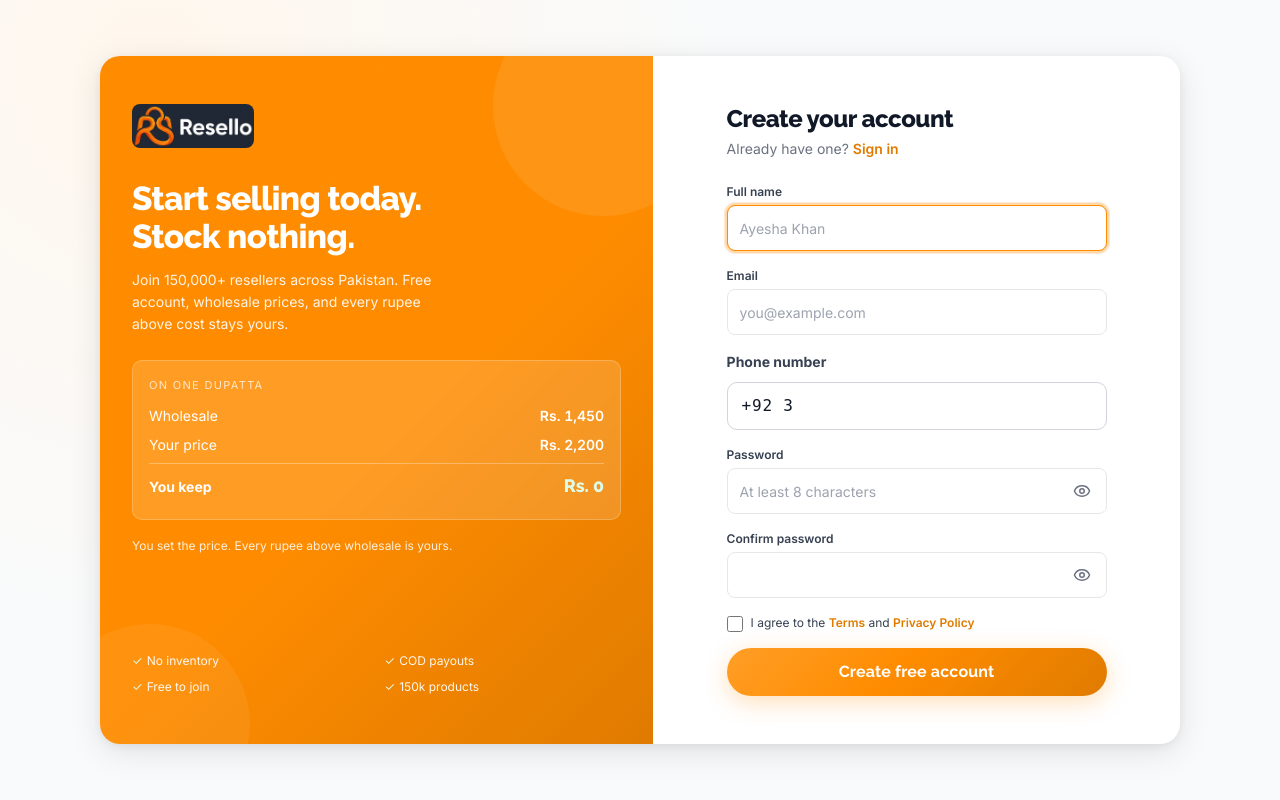
Test case: AuthPage Signup validation › rejects signup when phone number is missing
The image size is (1280, 800).
Type "Fatima Ali" into the field labelled "Full name" at (917, 228), box [728,206,1106,250]
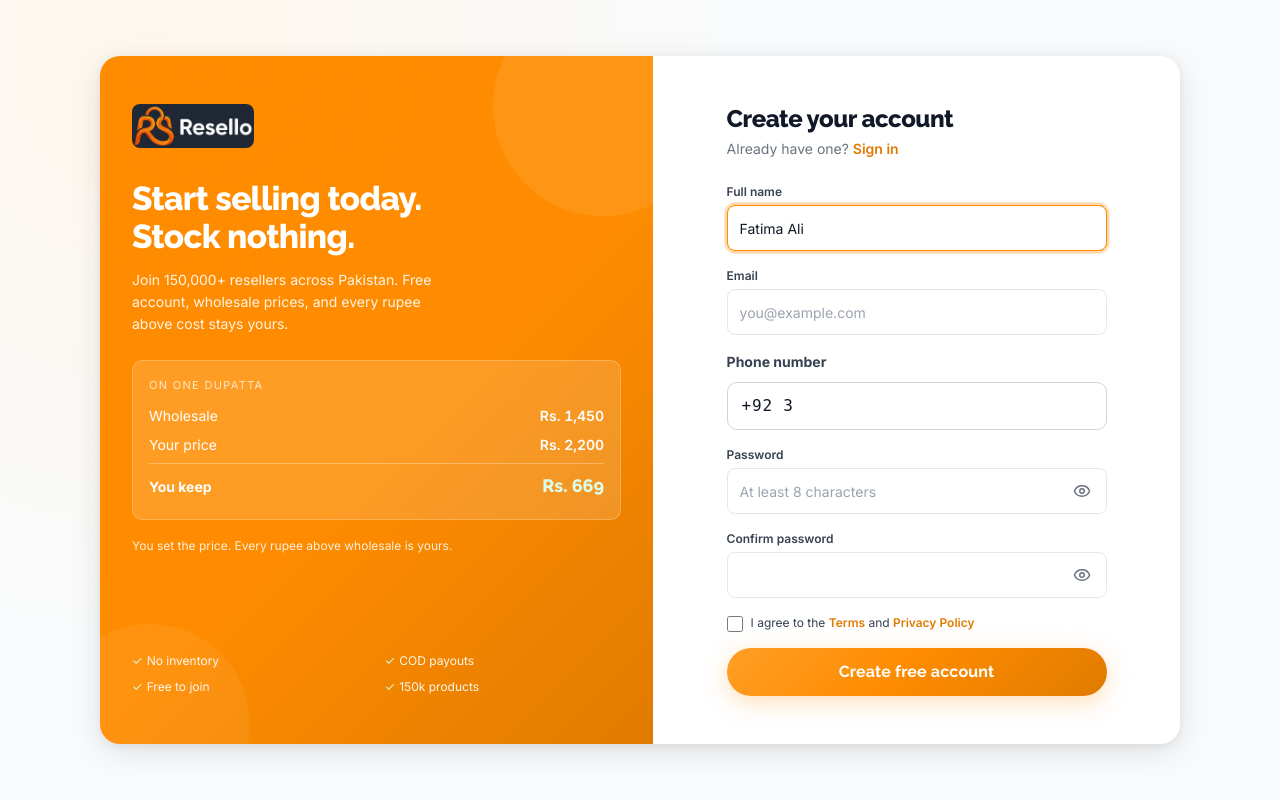
Type "fatima@example.com" into the field labelled "Email" at (917, 312), box [728,290,1106,334]
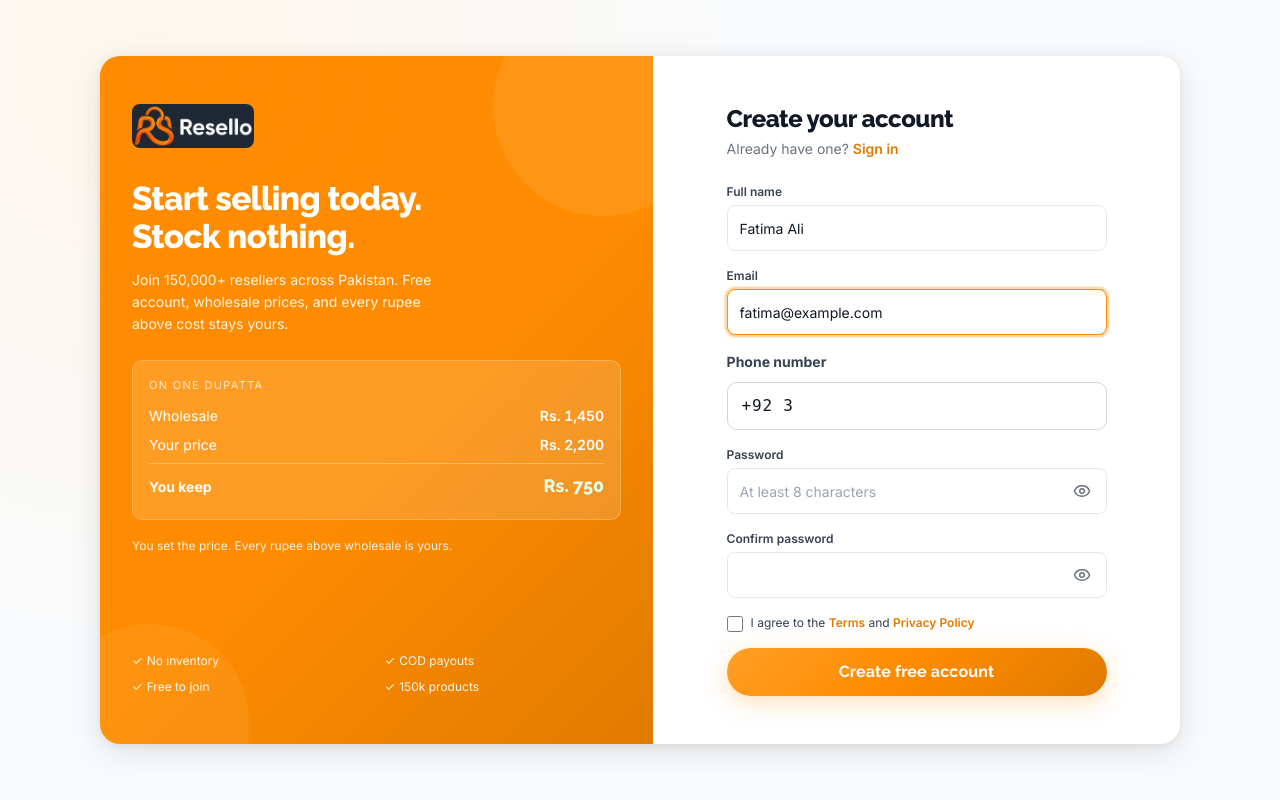
Leave phone empty
Type "SecurePassword123!" into the password field labelled "Password" at (895, 491), box [728,469,1062,513]
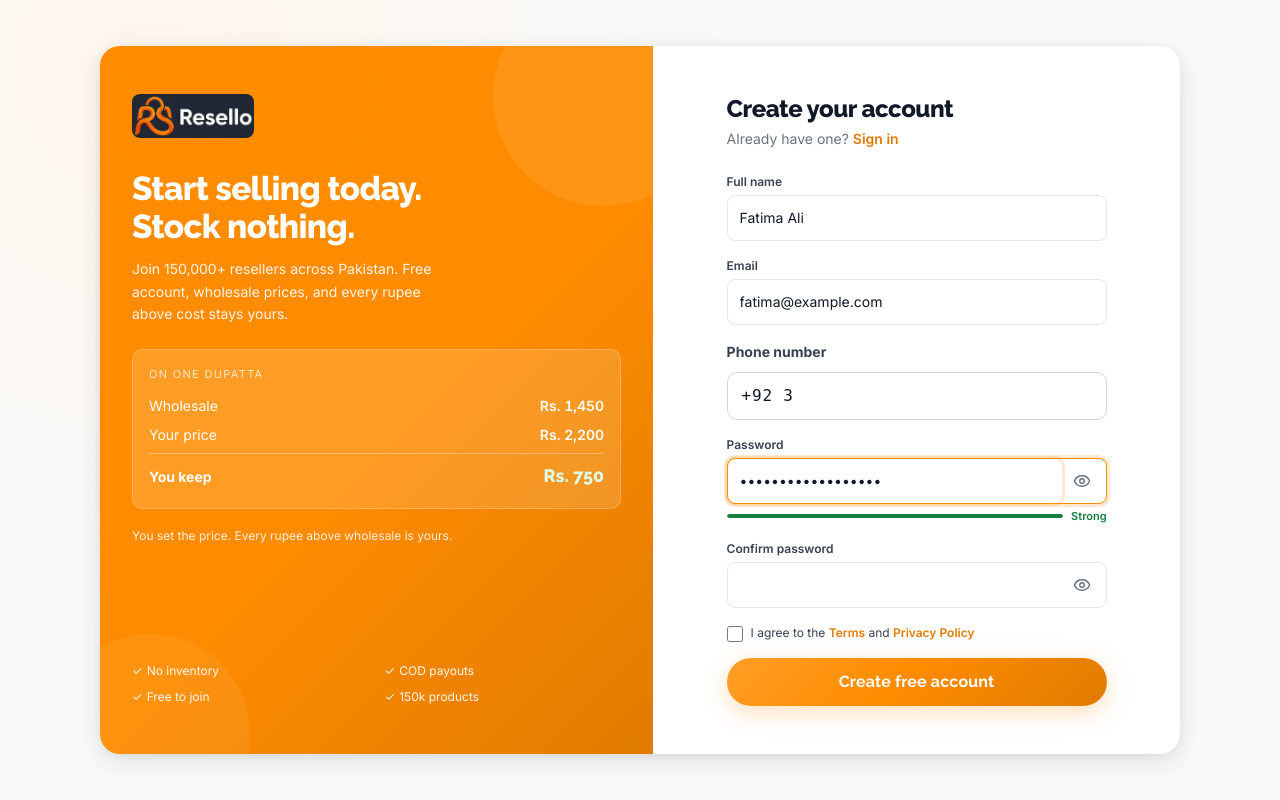
Type "SecurePassword123!" into the password field labelled "Confirm password" at (895, 585), box [728,563,1062,607]
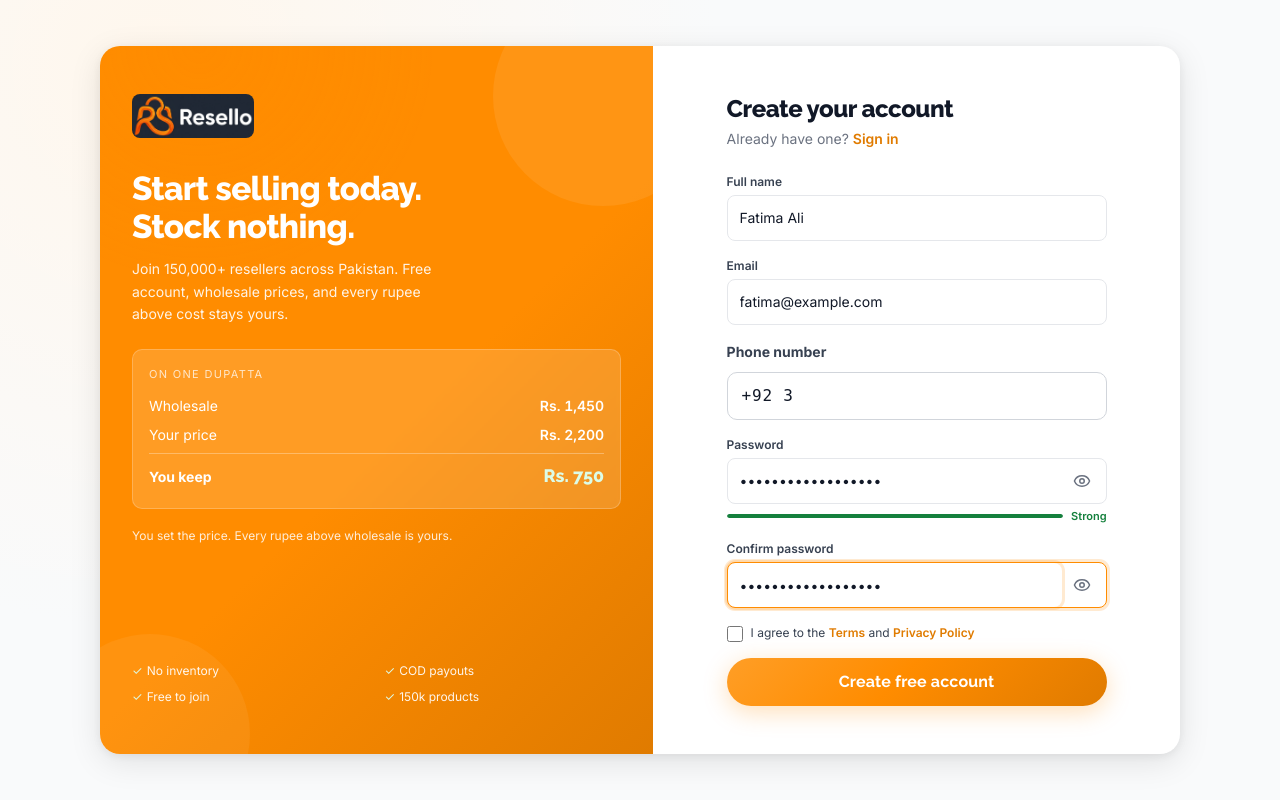
Click the checkbox labelled "I agree to the Terms and Privacy Policy" at (735, 634), box [727,626,743,642]
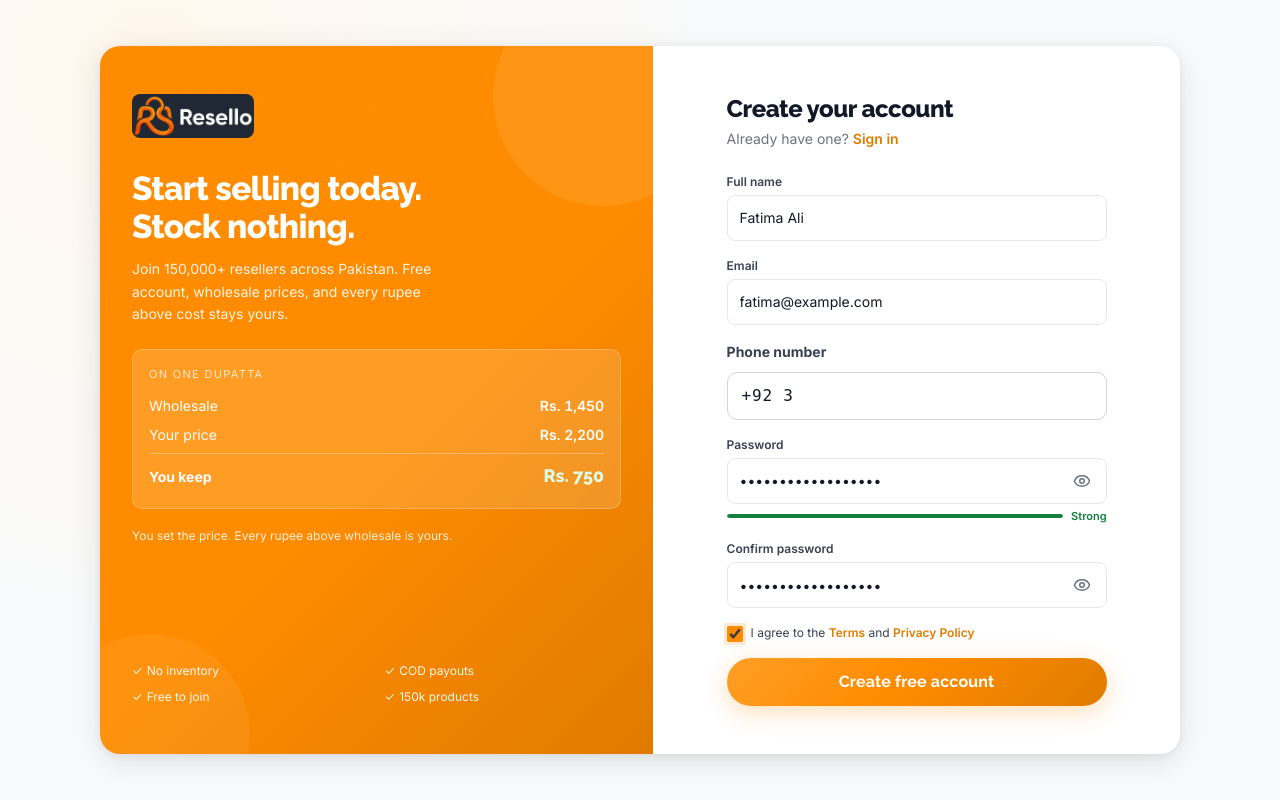
Click the button "Create free account" at (917, 682), box [727,658,1107,706]
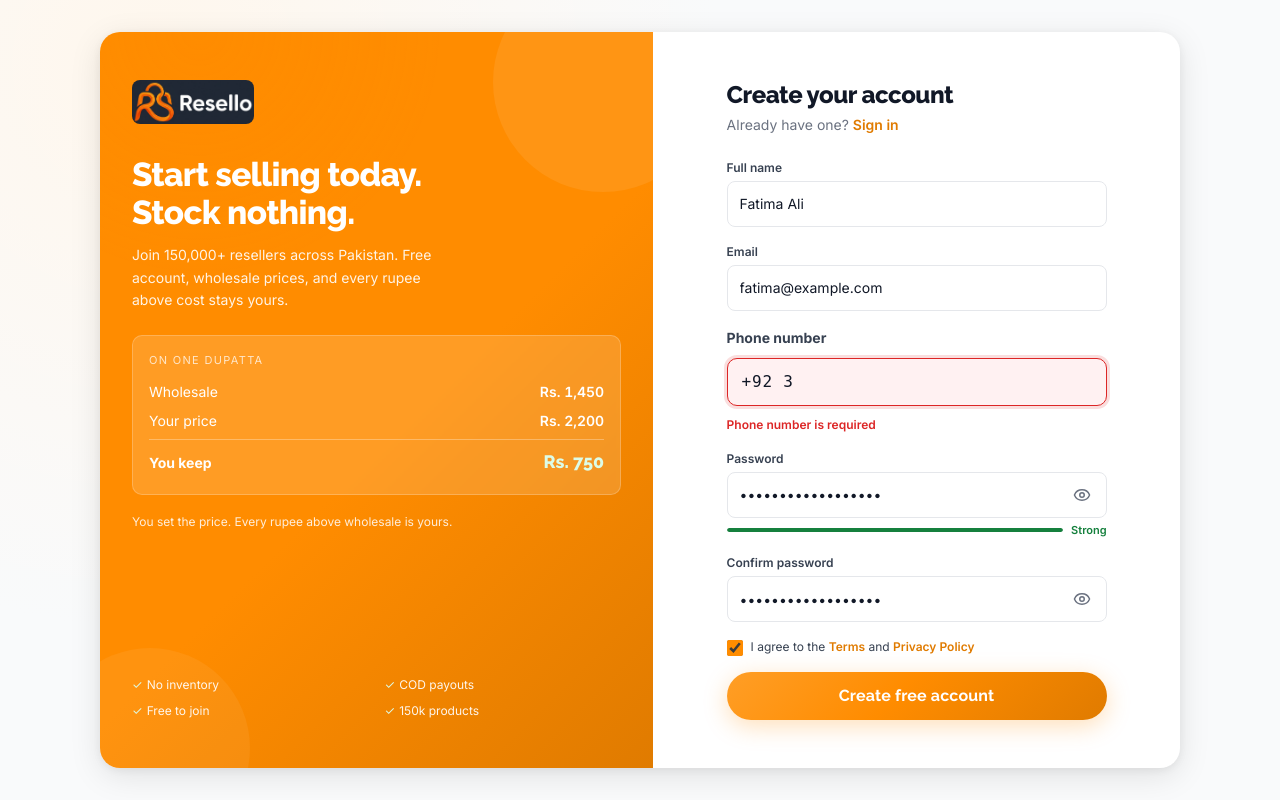
Expected: the text "Phone number is required" is shown, [727,417,876,432]
